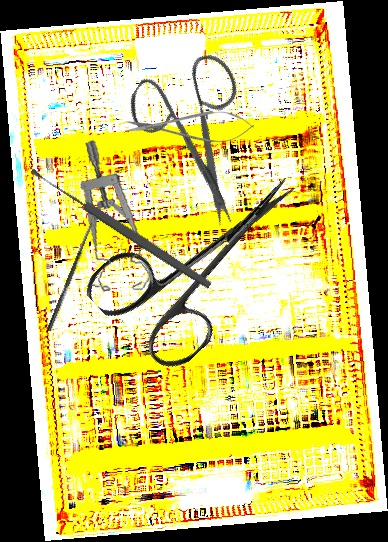Iris Scissors: (79, 133, 332, 382), (97, 28, 304, 232)
Micro Scissor: (125, 110, 254, 143)
Speculum: (61, 138, 172, 299)
Surgical Spoon: (28, 165, 214, 291), (46, 215, 98, 332)
